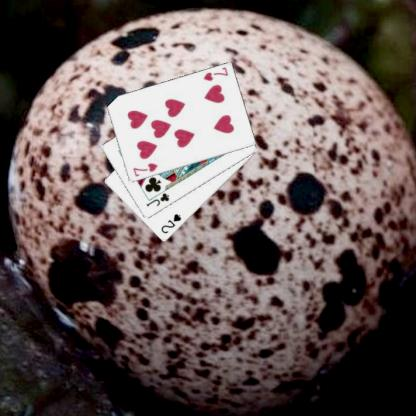2S: (158, 211, 182, 235)
7H: (130, 161, 159, 178), (201, 65, 229, 82)
JC: (144, 190, 170, 208)
